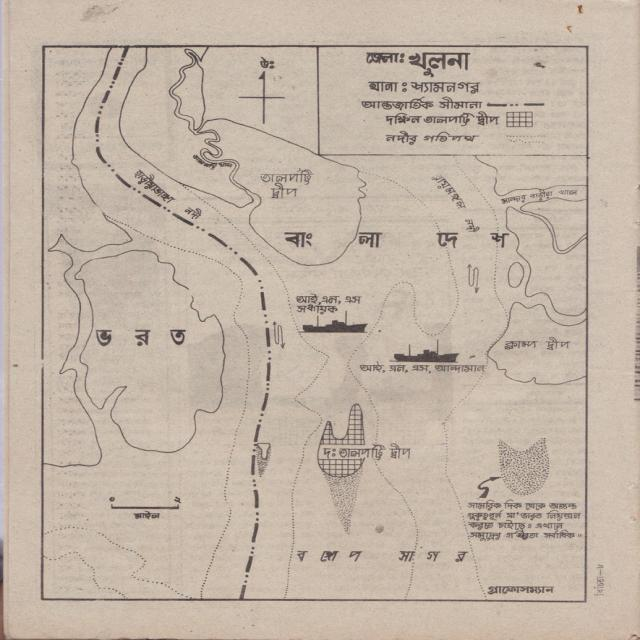image: (40, 44, 591, 603)
text: (594, 575, 605, 597), (595, 563, 604, 569)
